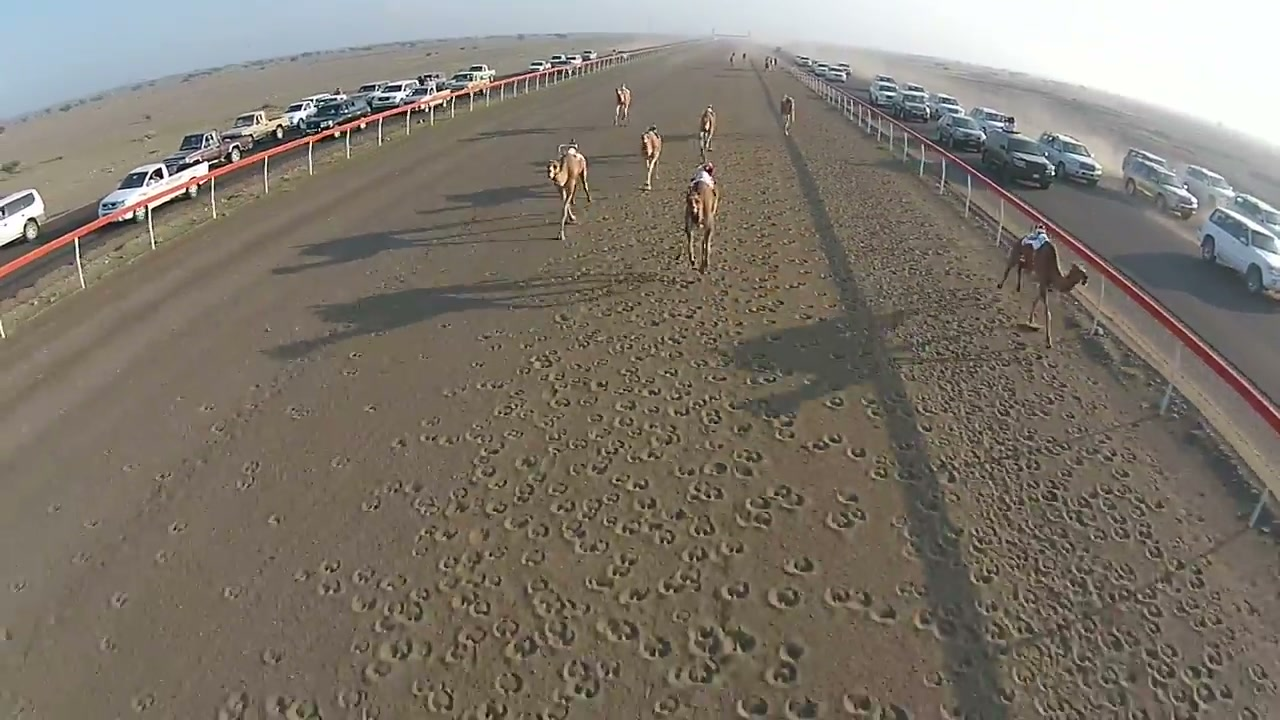animal_foot_print: (42, 98, 1279, 718), (398, 293, 904, 716)
